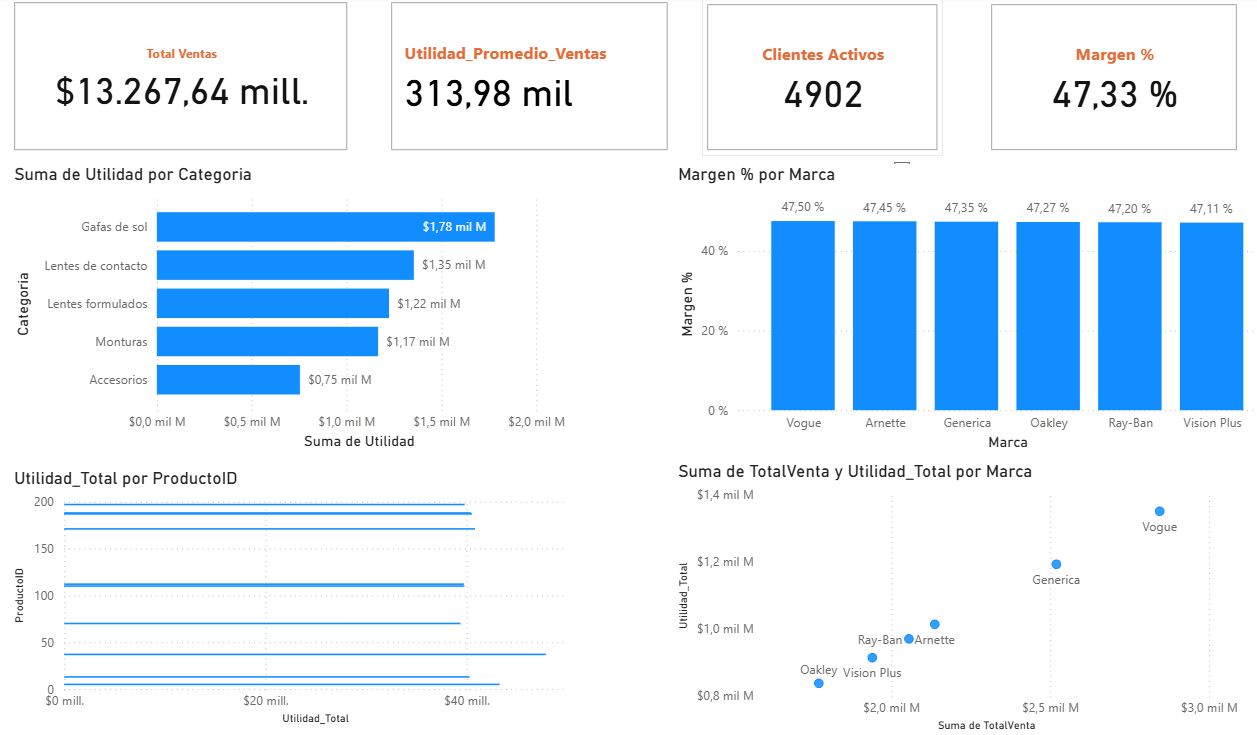

The page's visual inventory and layout, read from the dashboard file:
{"tool":"powerbi","page":{"name":"Rentabilidad","canvas":[1280,720],"ordinal":2},"visuals":[{"type":"cardVisual","fields":{"Data":["Dim_Productos.Utilidad_Promedio_Ventas"]},"box":[406.3,0,279.7,155],"z":0},{"type":"cardVisual","title":"Total Ventas","fields":{"Data":["Fact_Ventas.Total_ventas"]},"box":[57.4,0,290.8,154.7],"z":1000},{"type":"cardVisual","fields":{"Data":["Fact_Ventas.Clientes_Activos"]},"box":[713.9,1.9,234.4,152.7],"z":2000},{"type":"clusteredBarChart","fields":{"Category":["Dim_Productos.Categoria"],"Y":["Sum(Fact_Ventas.Utilidad)"]},"box":[39.9,162.4,570.9,283],"z":3000},{"type":"columnChart","fields":{"Category":["Dim_Productos.Marca"],"Y":["Fact_Ventas.Margen %"]},"box":[686,162.5,593.4,283.5],"z":4000},{"type":"barChart","fields":{"Category":["Dim_Productos.ProductoID"],"Y":["Fact_Ventas.Utilidad_Total"]},"box":[39.9,458.1,570.9,254.8],"z":5000},{"type":"scatterChart","fields":{"X":["Sum(Fact_Ventas.TotalVenta)"],"Y":["Fact_Ventas.Utilidad_Total"],"Category":["Dim_Productos.Marca"]},"box":[686,451.7,593.4,268.3],"z":6000},{"type":"cardVisual","fields":{"Data":["Fact_Ventas.Margen %"]},"box":[990.2,1.9,250,152.7],"z":7000}]}

Visuals, with their boxes on the page's 1280x720 design canvas (x1, y1, x2, y2). These are canvas units, not pixel positions in the 1257x735 screenshot, which may show the page scaled, cropped or inside an application window:
cardVisual - Dim_Productos.Utilidad_Promedio_Ventas: 406 0 686 155
"Total Ventas" cardVisual: 57 0 348 155
cardVisual - Fact_Ventas.Clientes_Activos: 714 2 948 155
clusteredBarChart - Dim_Productos.Categoria x Sum(Fact_Ventas.Utilidad): 40 162 611 445
columnChart - Dim_Productos.Marca x Fact_Ventas.Margen %: 686 162 1279 446
barChart - Dim_Productos.ProductoID x Fact_Ventas.Utilidad_Total: 40 458 611 713
scatterChart - Sum(Fact_Ventas.TotalVenta) x Fact_Ventas.Utilidad_Total: 686 452 1279 720
cardVisual - Fact_Ventas.Margen %: 990 2 1240 155
